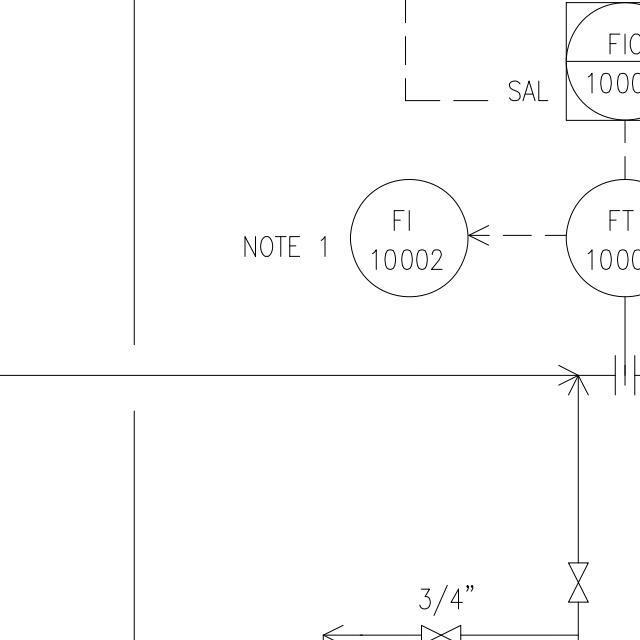GV: (566, 555, 590, 608)
